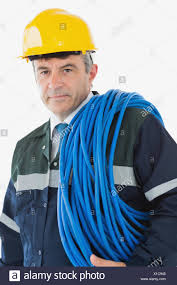Person_wearing_helmet: (20, 2, 97, 76)
